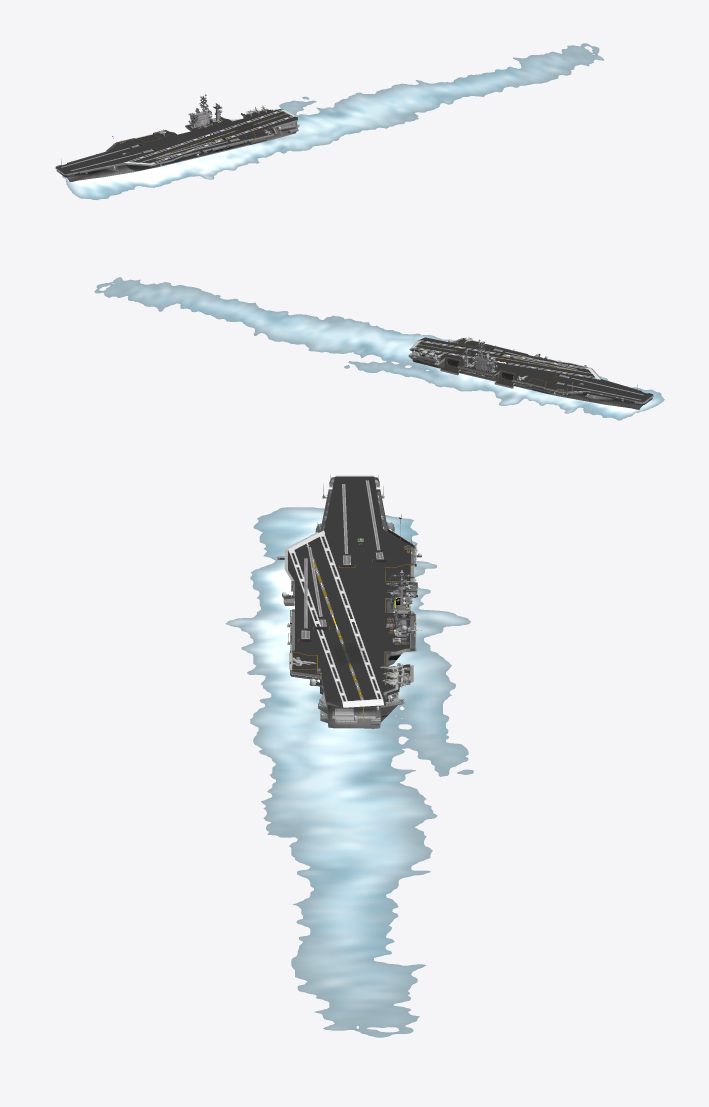
File: eisenhower.glb
3 views of the same model, one above another, from view 1: azimuth 30°, elevation 25°; view 2: azimuth 150°, elevation 25°; view 3: azimuth 270°, elevation 25° (orthographic). The views are drawn at different scales.
Parts seen in each view (by area): view 1: Wake, deck-5-surf, Deck-4, Hull-Port, Sponson-Port, Deck-Underside; view 2: Wake, deck-5-surf, Deck-4, Hull_Stbd, Deck-Underside; view 3: Wake, deck-5-surf, Deck-4.
Part boxes in pixels (bbox=[...]): Wake: bbox=[62, 43, 603, 200]; deck-5-surf: bbox=[56, 109, 297, 174]; Deck-4: bbox=[123, 109, 293, 164]; Hull-Port: bbox=[60, 122, 296, 181]; Sponson-Port: bbox=[125, 141, 250, 170]; Deck-Underside: bbox=[55, 113, 297, 175]; Wake: bbox=[94, 277, 664, 420]; deck-5-surf: bbox=[413, 337, 652, 402]; Deck-4: bbox=[413, 340, 600, 379]; Hull_Stbd: bbox=[412, 358, 648, 409]; Deck-Underside: bbox=[409, 348, 652, 403]; Wake: bbox=[225, 507, 473, 1037]; deck-5-surf: bbox=[288, 476, 410, 701]; Deck-4: bbox=[288, 530, 383, 701].
Bounding box in the file's own units: 872 × 60.76 × 169.
103 materials, 86 textured.
